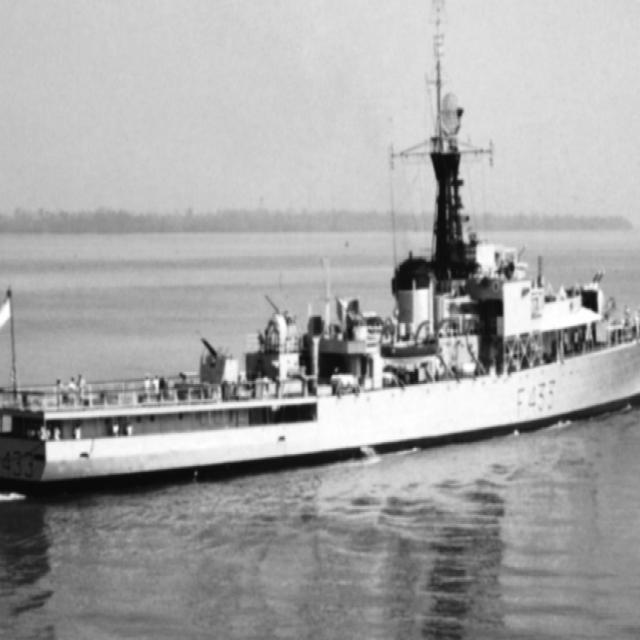Fragata: (1, 1, 640, 504)
